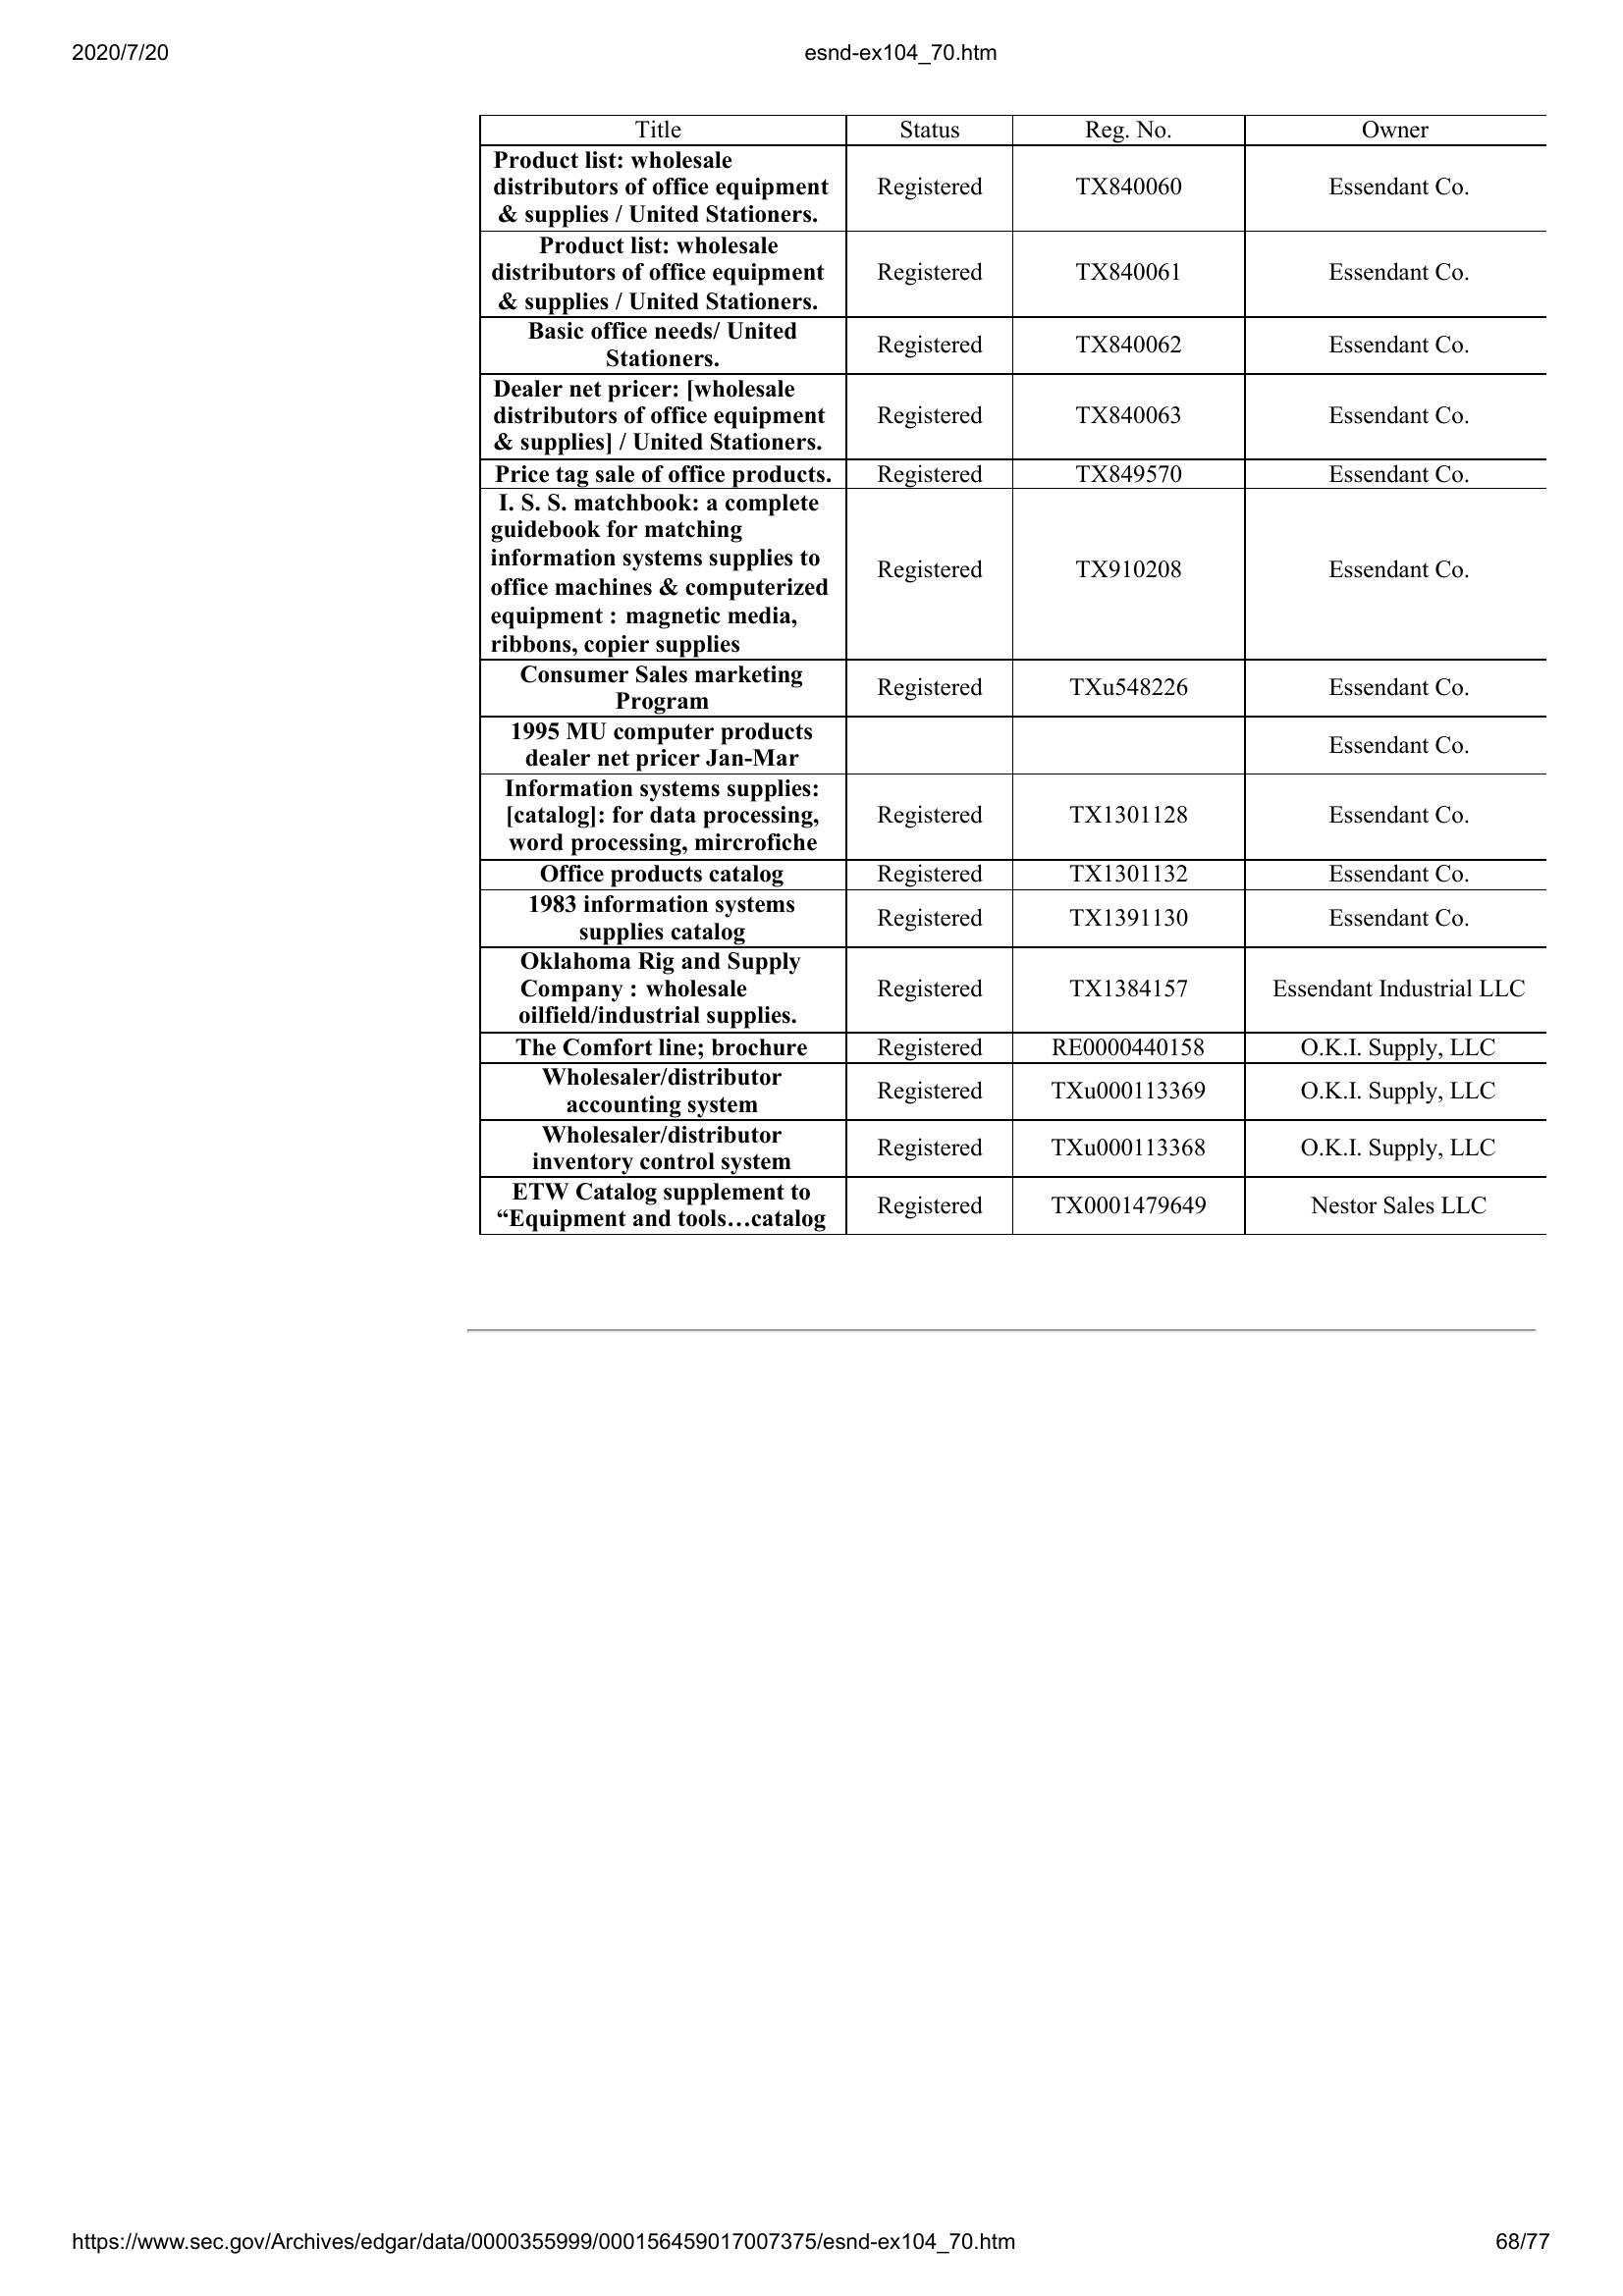table: (469, 105, 1560, 1246)
